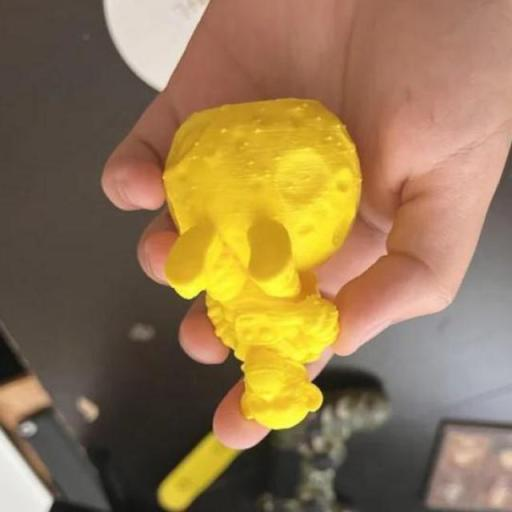blobs: (284, 182, 296, 195), (322, 132, 334, 144), (250, 126, 264, 136), (260, 168, 270, 179), (333, 122, 344, 132), (314, 114, 324, 124), (271, 154, 282, 163), (190, 154, 200, 162), (334, 140, 344, 148), (241, 140, 250, 148), (218, 127, 227, 135), (191, 182, 197, 194), (192, 140, 200, 148), (248, 157, 255, 166), (238, 145, 246, 152)
